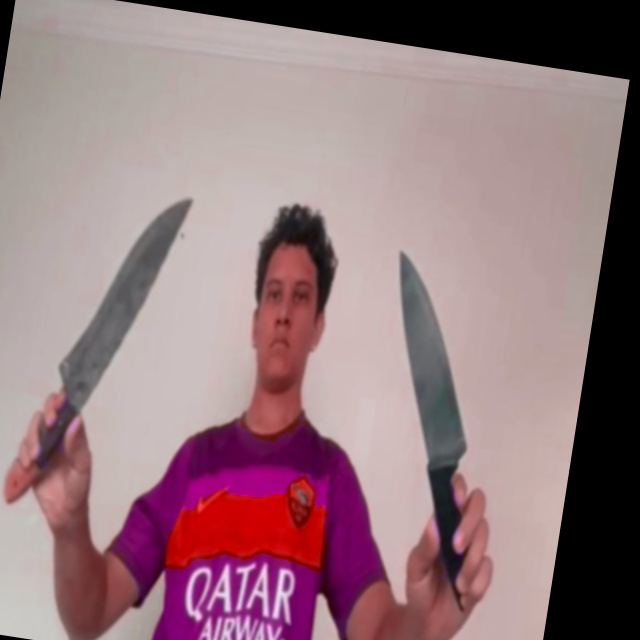Sharp-Object: (56, 181, 194, 389), (369, 248, 497, 462)
